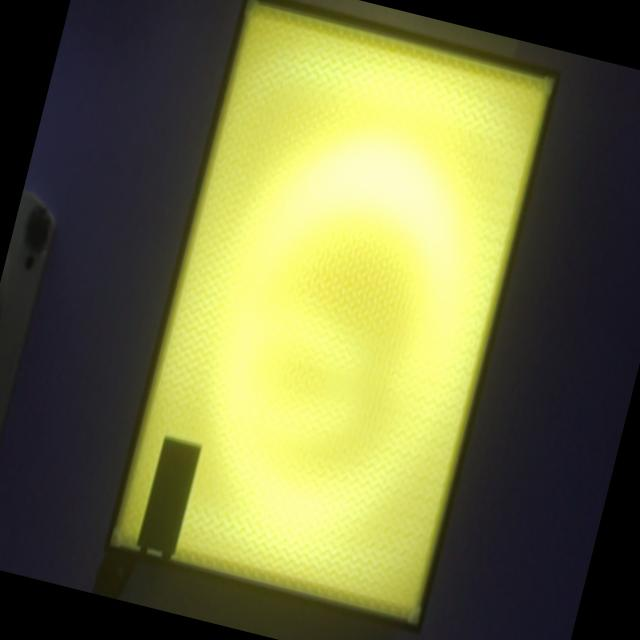bateria: (137, 437, 201, 561)
mesa: (102, 0, 561, 634)
